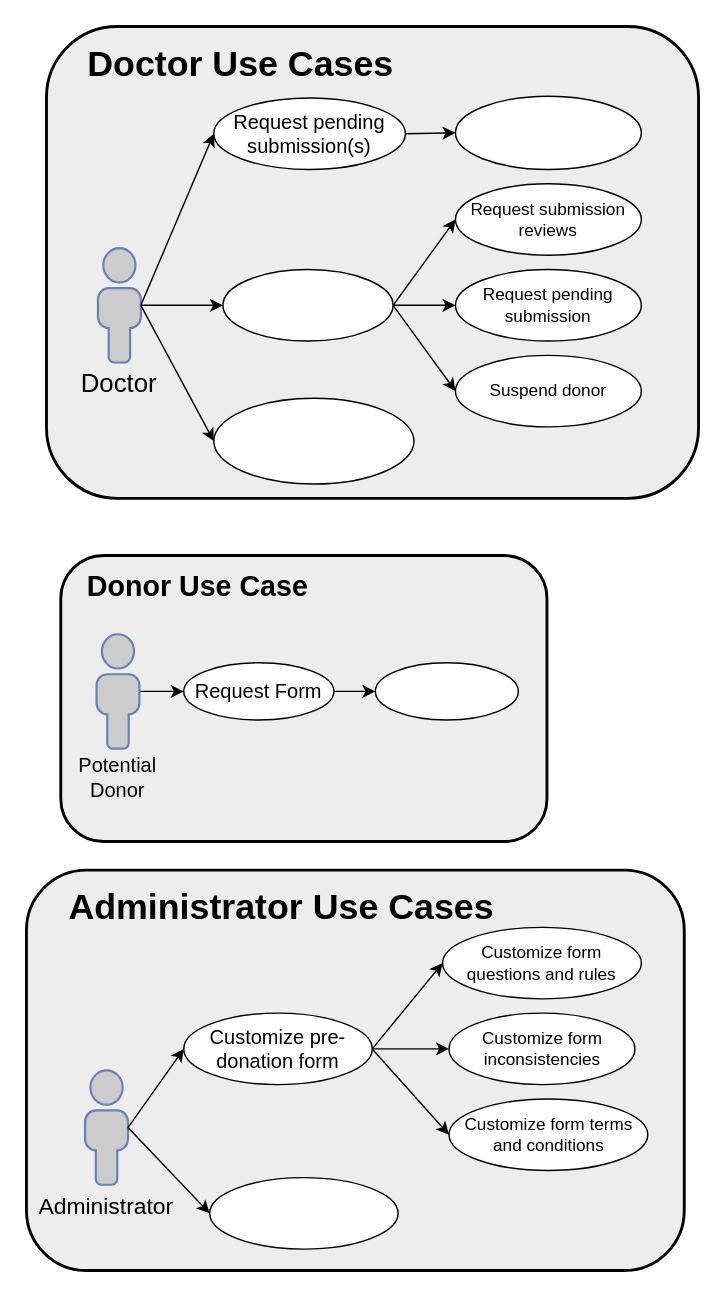
Image size: 724x1296. Some labels were removed from this diagram. The shapes that lost their labels are listed below. From the top down, each one's centre as x and y in pixels, then its label:
point (547, 132): Request form answers
point (307, 304): Access donor profile
point (313, 440): Search patology/medication interactions
point (446, 690): Submit Form
point (303, 1212): Manage user
